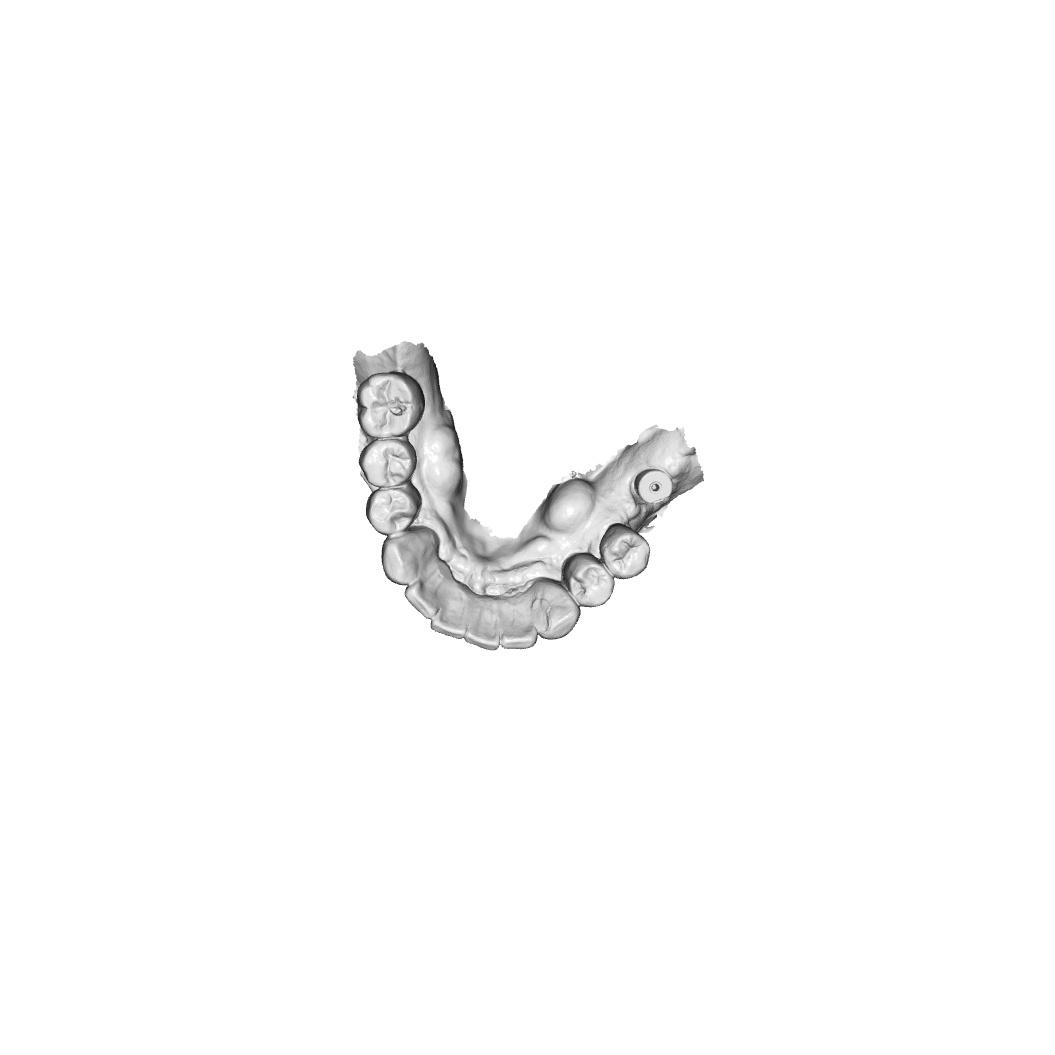canine: (381, 525, 440, 586), (527, 577, 581, 640)
implant: (631, 468, 673, 506)
incisor: (500, 602, 538, 650), (464, 603, 501, 651), (404, 579, 443, 620), (429, 603, 468, 644)
molar: (355, 369, 426, 439)
premolar: (365, 480, 422, 537), (561, 552, 616, 608), (598, 522, 651, 580), (358, 438, 417, 488)
